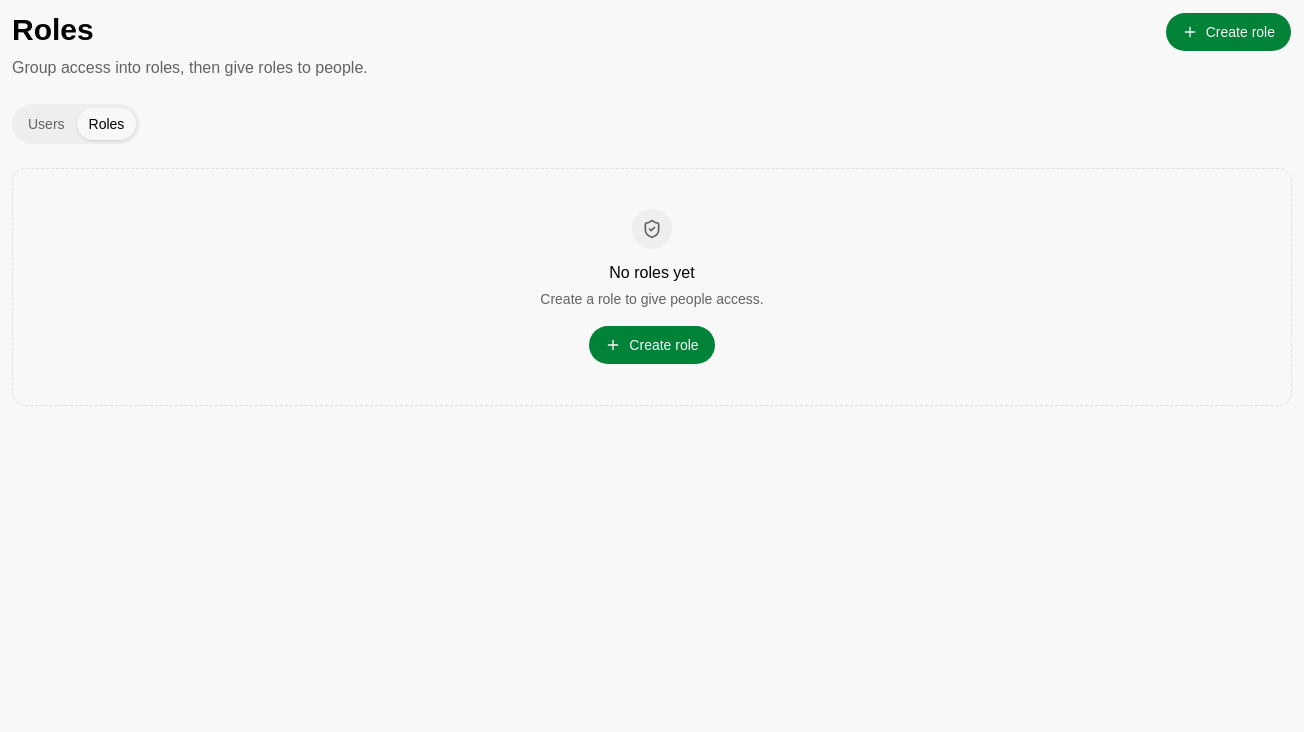
Test: role management › shows creation errors without navigating away
The image size is (1304, 732).
Click the 1st button "Create role": [1228, 32] box top-left (1165, 12), bottom-right (1292, 52)
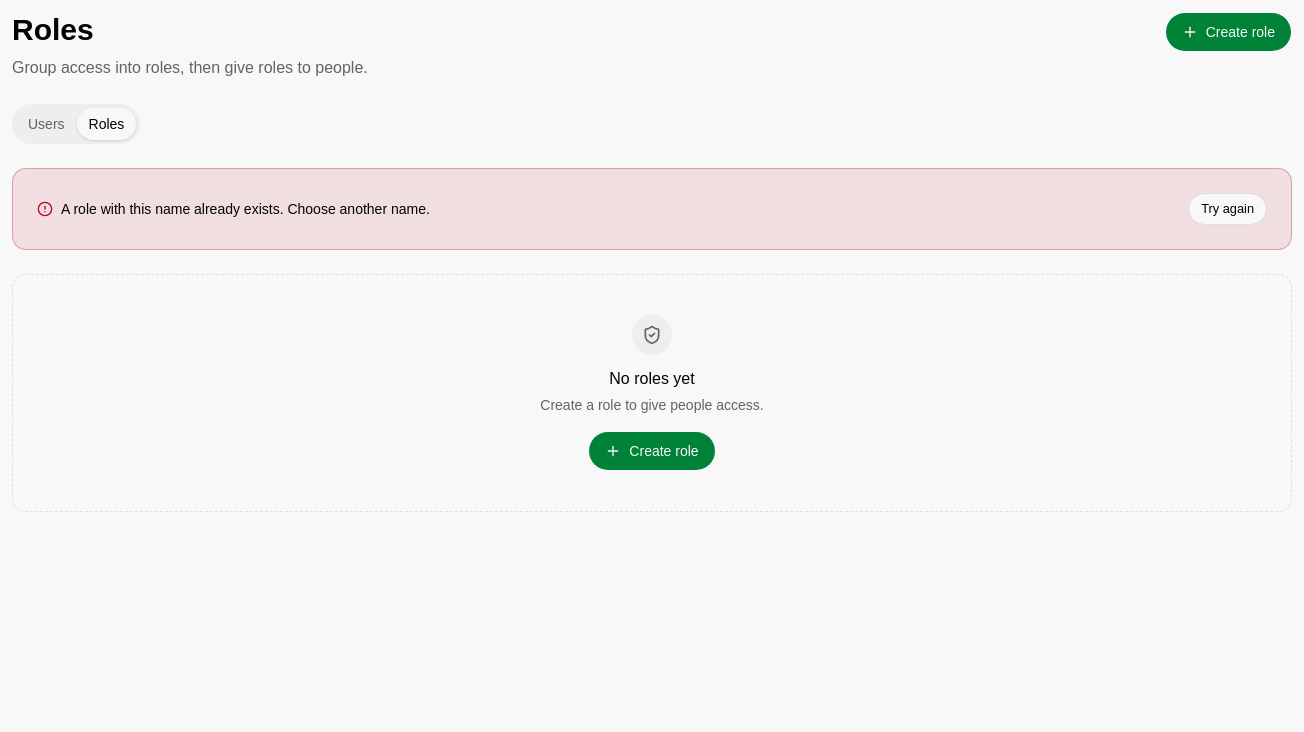
Result: the text "A role with this name already exists. Choose another name." is shown at top-left (61, 199), bottom-right (430, 219)
